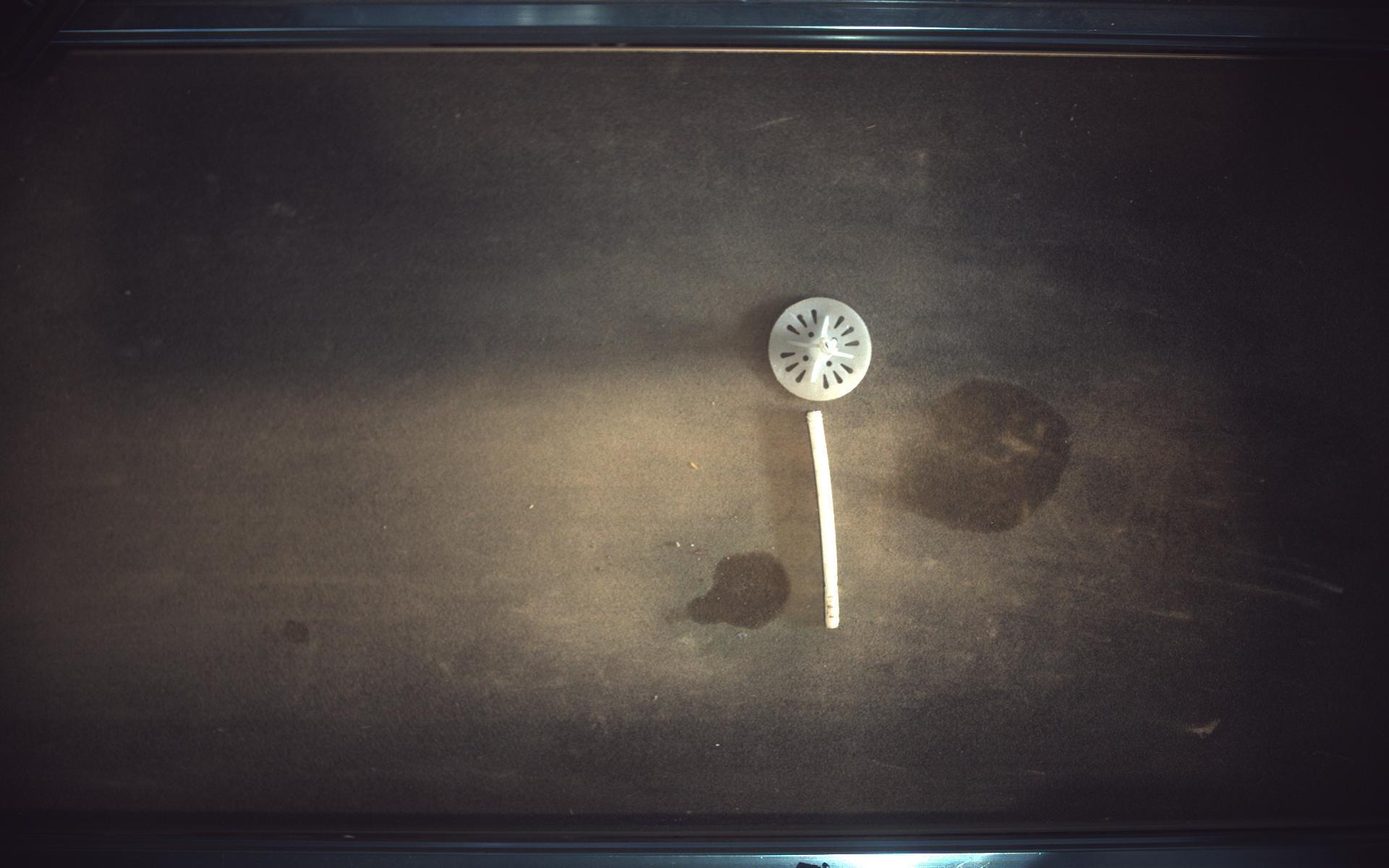plastic: (770, 297, 873, 401), (808, 410, 841, 629)
